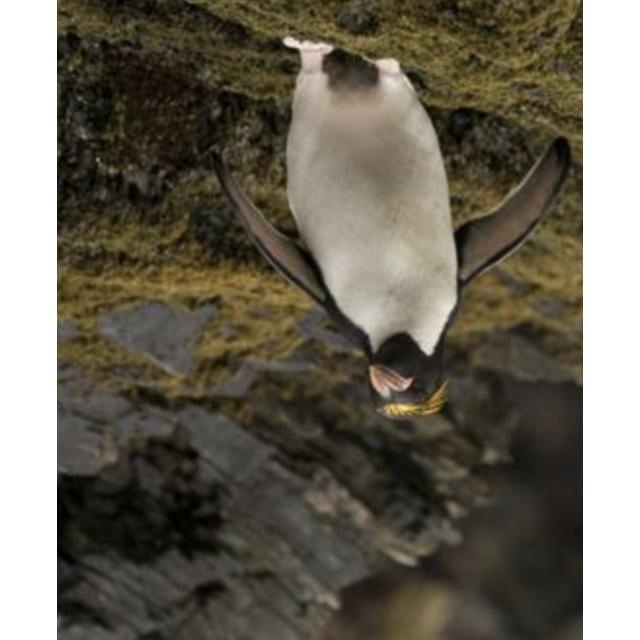penguin: (213, 32, 571, 420)
